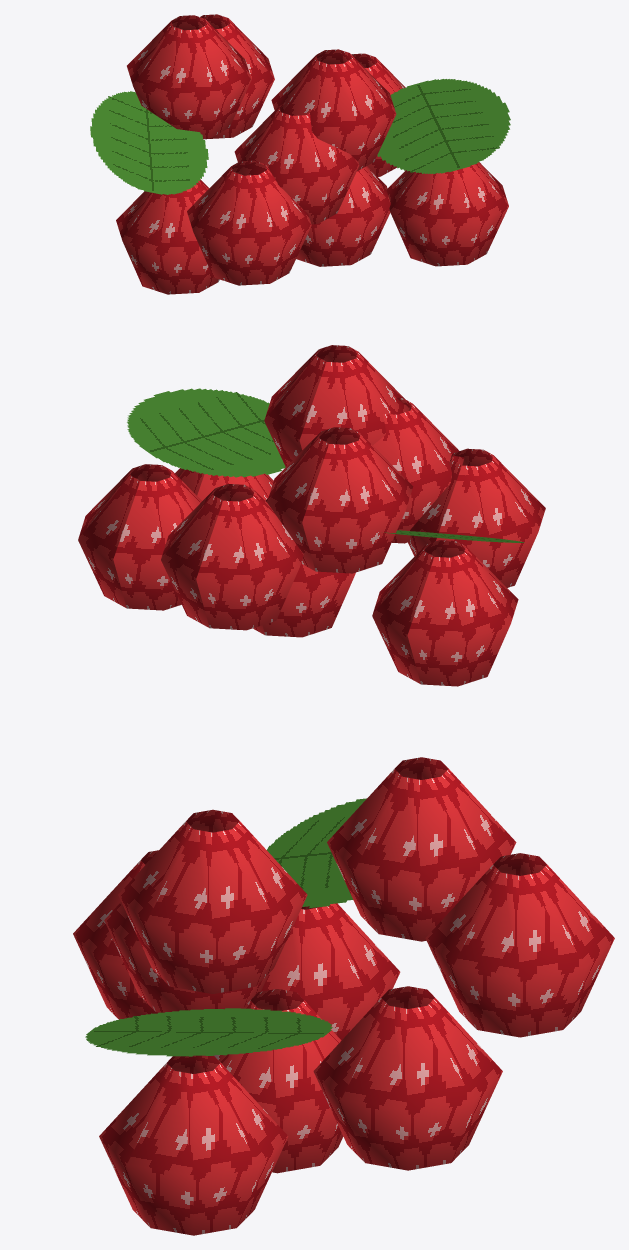
Rendered from item_berries.glb.
3 renders of one model, top to bottom at view 1: azimuth 30°, elevation 25°; view 2: azimuth 150°, elevation 25°; view 3: azimuth 270°, elevation 25°, orthographic. The views are drawn at different scales.
Parts seen in each view (by area): view 1: item_berries; view 2: item_berries; view 3: item_berries.
Part boxes in pixels (box(x1,y1,x2,y2)): item_berries: box(90, 14, 510, 294); item_berries: box(78, 345, 545, 686); item_berries: box(73, 757, 614, 1235).
Size of the model in its own units: 0.1323 by 0.051 by 0.0888.
2 materials, 2 textured.
